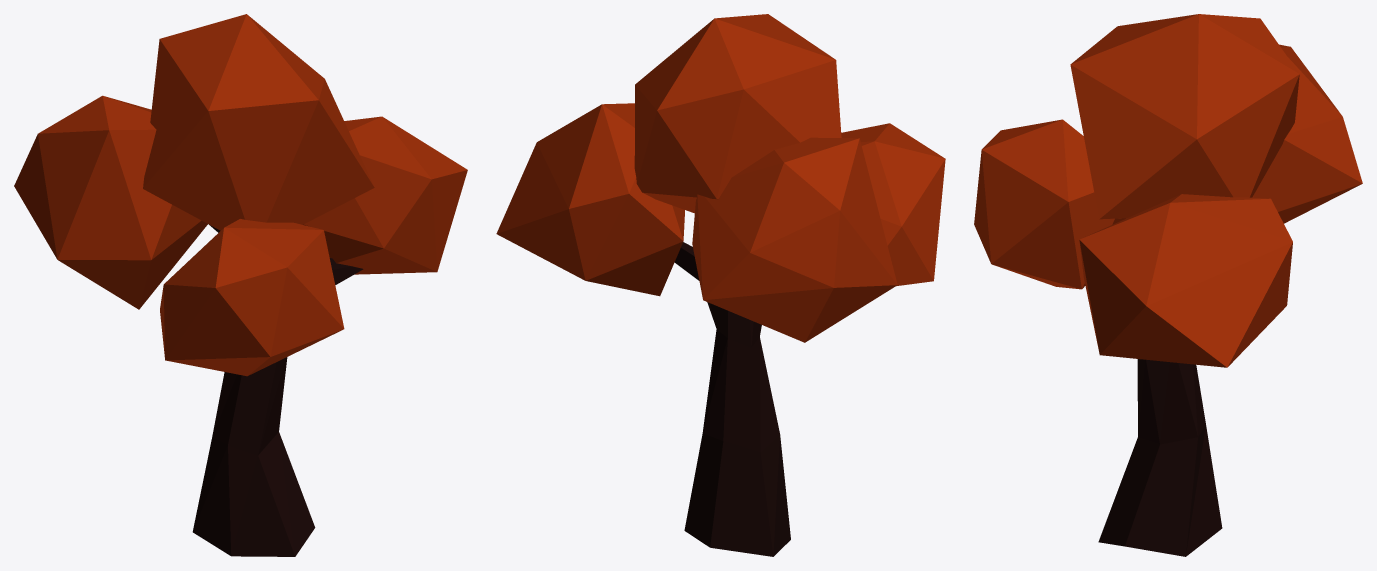
The model's file is M_NutTree2.FBX.
3 views of the same model, side by side, from view 1: azimuth 30°, elevation 25°; view 2: azimuth 150°, elevation 25°; view 3: azimuth 270°, elevation 25° (orthographic). The views are drawn at different scales.
Parts seen in each view (by area): view 1: GeoSphere026, Cylinder008; view 2: GeoSphere026, Cylinder008; view 3: GeoSphere026, Cylinder008.
Part boxes in pixels (x1,y1,x2,y2): GeoSphere026: (14, 14, 467, 376); Cylinder008: (192, 224, 363, 556); GeoSphere026: (496, 14, 945, 342); Cylinder008: (674, 242, 790, 556); GeoSphere026: (974, 14, 1362, 367); Cylinder008: (1098, 359, 1222, 556).
Bounding box in the file's own units: 474 × 611 × 405.
